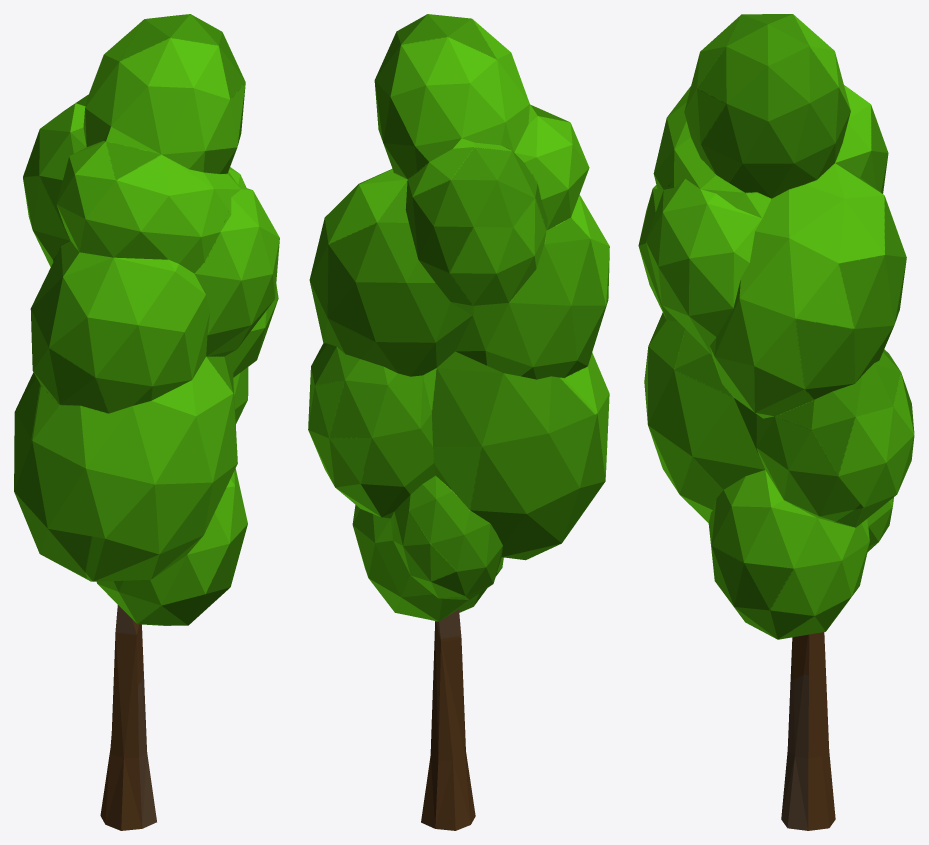
Rendered from Tree2.gltf.
The picture shows the model from 3 angles, left to right: view 1: azimuth 30°, elevation 25°; view 2: azimuth 150°, elevation 25°; view 3: azimuth 270°, elevation 25°; orthographic projection. The views are drawn at different scales.
Visible parts, largest first — view 1: _7_tree_Icosphere.042; view 2: _7_tree_Icosphere.042; view 3: _7_tree_Icosphere.042.
Boxes of the visible parts, box(x1,y1,x2,y2) form: _7_tree_Icosphere.042: box(14, 14, 279, 830); _7_tree_Icosphere.042: box(308, 14, 609, 830); _7_tree_Icosphere.042: box(638, 14, 914, 830).
Bounding box in the file's own units: 0.9204 × 2.78 × 0.8524.
Materials: 1 (1 with a texture image).
